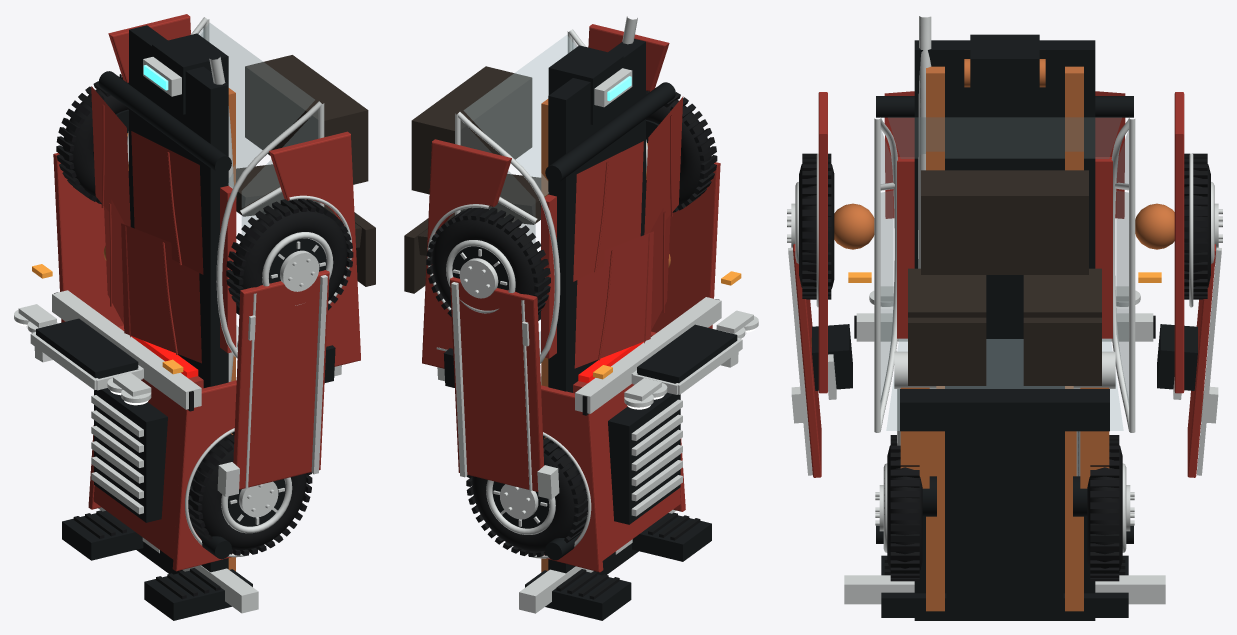
Rendered from C72-robot.glb.
3 renders of one model, left to right at view 1: azimuth 30°, elevation 25°; view 2: azimuth 150°, elevation 25°; view 3: azimuth 270°, elevation 25°, orthographic. The views are drawn at different scales.
Visible parts, largest first — view 1: Two-door outer skin (×2), Bonnet articulated panel (×4), Box-section chassis, Rubber tire (×3), Front wheel arch (×2), Rear bench, Sloped rear windscreen, Rear quarter panel, Engine block / robot core, Undertray / foot pad (×2), Split rear deck (×2), Chrome front bumper (+22 smaller); view 2: Two-door outer skin (×2), Bonnet articulated panel (×4), Box-section chassis, Rubber tire (×3), Front wheel arch (×2), Rear bench, Sloped rear windscreen, Rear quarter panel, Engine block / robot core, Undertray / foot pad (×2), Split rear deck (×2), Chrome front bumper (+21 smaller); view 3: Box-section chassis, Rear bench, Front seat cushion (×2), Longitudinal frame rail (×2), Dashboard, Sloped rear windscreen, Polished window surround (×4), Front seat back (×2), Front wheel arch (×2), Rubber tire (×4), Classic coupe roof, Compact mechanical head (+15 smaller).
Part boxes in pixels (<box>): Two-door outer skin (×2): <box>53,153,329,489</box>; Bonnet articulated panel (×4): <box>91,86,203,363</box>; Box-section chassis: <box>129,25,228,574</box>; Rubber tire (×3): <box>62,89,347,550</box>; Front wheel arch (×2): <box>108,14,360,366</box>; Rear bench: <box>245,55,368,184</box>; Sloped rear windscreen: <box>200,23,314,187</box>; Rear quarter panel: <box>172,380,236,571</box>; Engine block / robot core: <box>94,388,192,522</box>; Undertray / foot pad (×2): <box>62,510,252,620</box>; Split rear deck (×2): <box>93,378,183,559</box>; Chrome front bumper: <box>52,290,201,409</box>; Two-door outer skin (×2): <box>450,162,720,491</box>; Bonnet articulated panel (×4): <box>573,96,683,368</box>; Box-section chassis: <box>548,39,645,575</box>; Rubber tire (×3): <box>432,91,711,551</box>; Front wheel arch (×2): <box>422,24,669,368</box>; Rear bench: <box>411,66,532,194</box>; Sloped rear windscreen: <box>464,35,575,196</box>; Rear quarter panel: <box>541,385,603,572</box>; Engine block / robot core: <box>582,392,680,524</box>; Undertray / foot pad (×2): <box>525,513,711,620</box>; Split rear deck (×2): <box>593,383,680,560</box>; Chrome front bumper: <box>575,297,721,413</box>; Box-section chassis: <box>914,40,1095,620</box>; Rear bench: <box>921,170,1088,274</box>; Front seat cushion (×2): <box>908,317,1101,385</box>; Longitudinal frame rail (×2): <box>926,66,1083,611</box>; Dashboard: <box>900,389,1109,431</box>; Sloped rear windscreen: <box>888,117,1121,158</box>; Polished window surround (×4): <box>874,117,1135,432</box>; Front seat back (×2): <box>908,268,1101,317</box>; Front wheel arch (×2): <box>818,92,1184,393</box>; Rubber tire (×4): <box>799,163,1210,570</box>; Classic coupe roof: <box>897,157,1112,338</box>; Compact mechanical head: <box>970,34,1039,111</box>.
Bounding box in the file's own units: 2.38 × 4.58 × 3.01.
